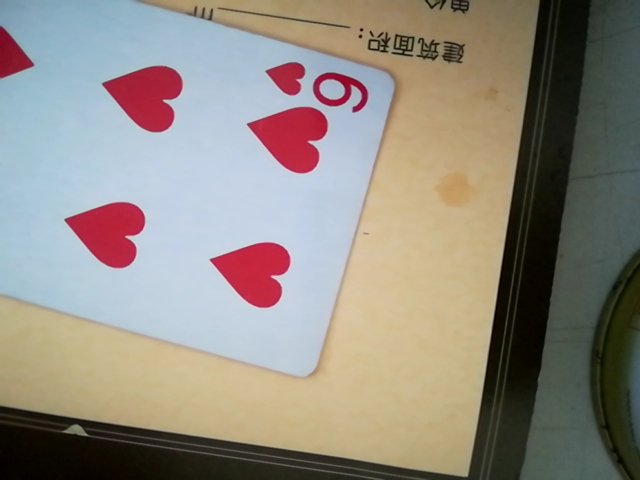hx 6: (0, 0, 403, 378)
